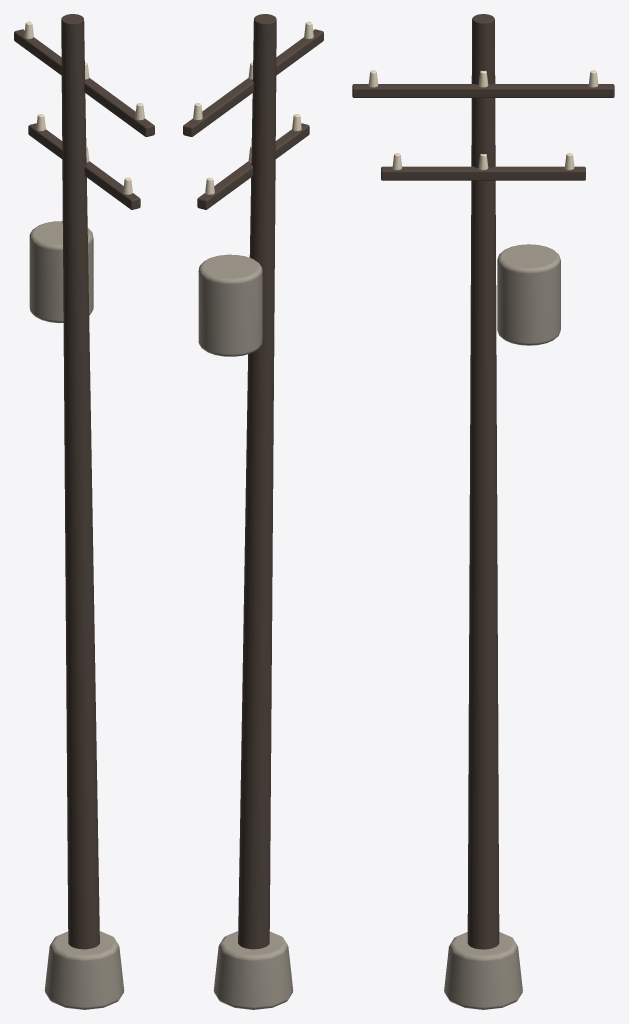
Rendered from utility_pole_transformer.glb.
3 renders of one model, left to right at view 1: azimuth 30°, elevation 25°; view 2: azimuth 150°, elevation 25°; view 3: azimuth 270°, elevation 25°, orthographic.
Parts seen in each view (by area): view 1: upole.001, pole_footing.001, transformer, crossarm.002, crossarm.003; view 2: upole.001, transformer, pole_footing.001, crossarm.002, crossarm.003; view 3: upole.001, transformer, pole_footing.001, crossarm.002, crossarm.003.
Boxes of the visible parts, x1,y1,x2,y2 form: upole.001: (61, 14, 99, 949); pole_footing.001: (44, 931, 124, 1009); transformer: (29, 221, 93, 323); crossarm.002: (14, 29, 154, 136); crossarm.003: (28, 123, 140, 209); upole.001: (238, 14, 276, 949); transformer: (198, 254, 262, 356); pole_footing.001: (213, 931, 293, 1009); crossarm.002: (183, 29, 323, 136); crossarm.003: (197, 123, 309, 209); upole.001: (467, 14, 499, 949); transformer: (497, 244, 560, 345); pole_footing.001: (444, 932, 522, 1009); crossarm.002: (352, 84, 614, 97); crossarm.003: (381, 166, 585, 180).
Size of the model in its own units: 0.692 by 9.4 by 2.3.
